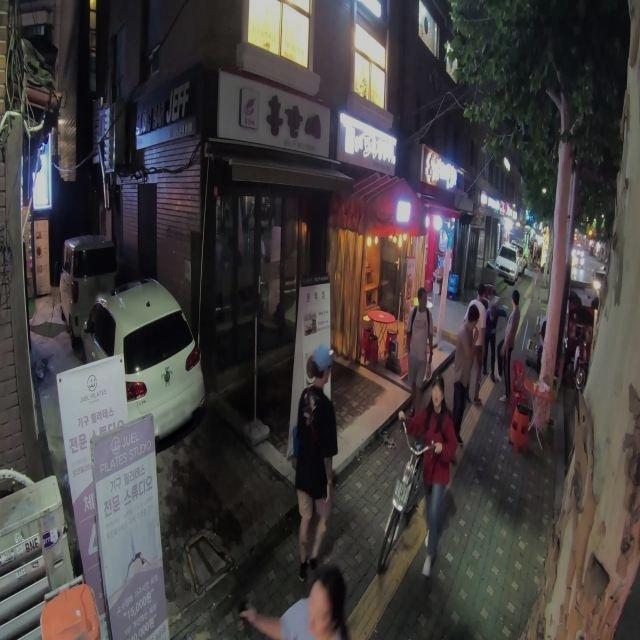non-fight: (387, 371, 459, 578), (288, 347, 337, 580), (451, 303, 483, 442), (405, 289, 434, 397)
